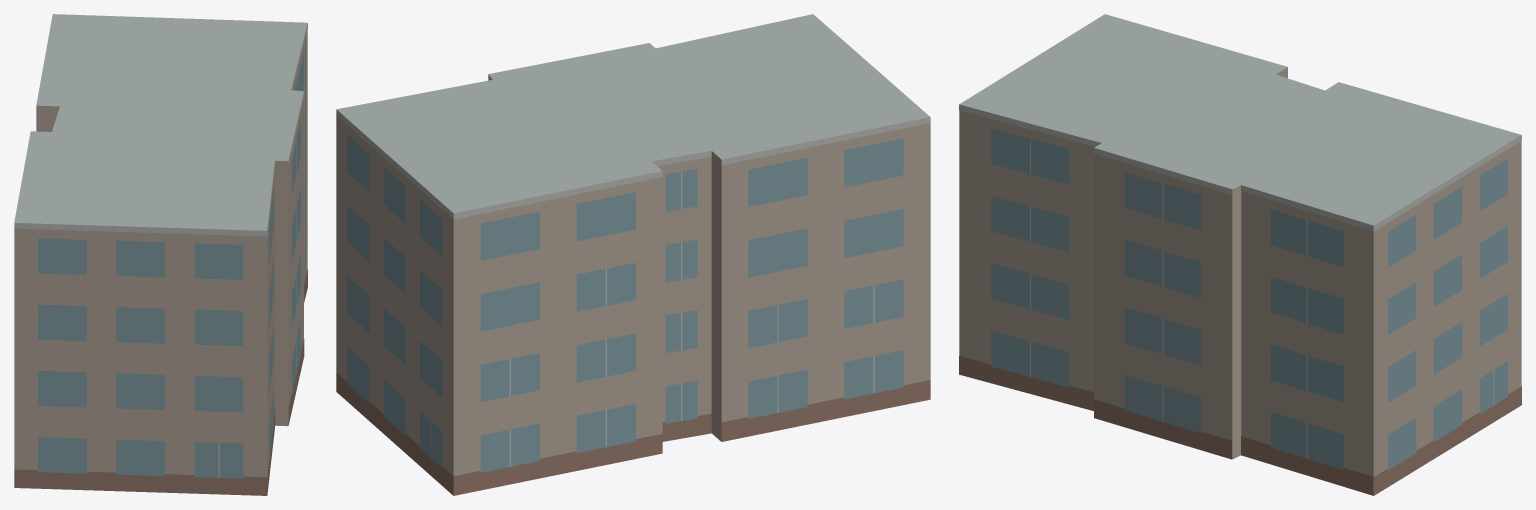
File: survey-upis-32683913.glb
3 views of the same model, side by side, from view 1: azimuth 30°, elevation 25°; view 2: azimuth 150°, elevation 25°; view 3: azimuth 270°, elevation 25° (orthographic). The views are drawn at different scales.
Visible parts, largest first — view 1: survey-upis-32683913.tmp; view 2: survey-upis-32683913.tmp; view 3: survey-upis-32683913.tmp.
Boxes of the visible parts, x1,y1,x2,y2 form: survey-upis-32683913.tmp: (14, 14, 307, 495); survey-upis-32683913.tmp: (336, 14, 930, 495); survey-upis-32683913.tmp: (959, 14, 1521, 495).
Size of the model in its own units: 19.13 by 11.38 by 21.48.
